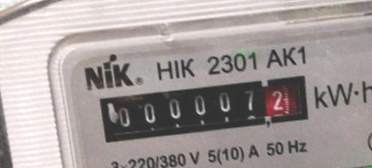0: (115, 102, 132, 127), (192, 92, 208, 116), (167, 95, 182, 119), (217, 88, 232, 112), (141, 100, 156, 123)
2: (270, 87, 285, 111)
7: (242, 86, 257, 111)
screen: (87, 63, 320, 151)
